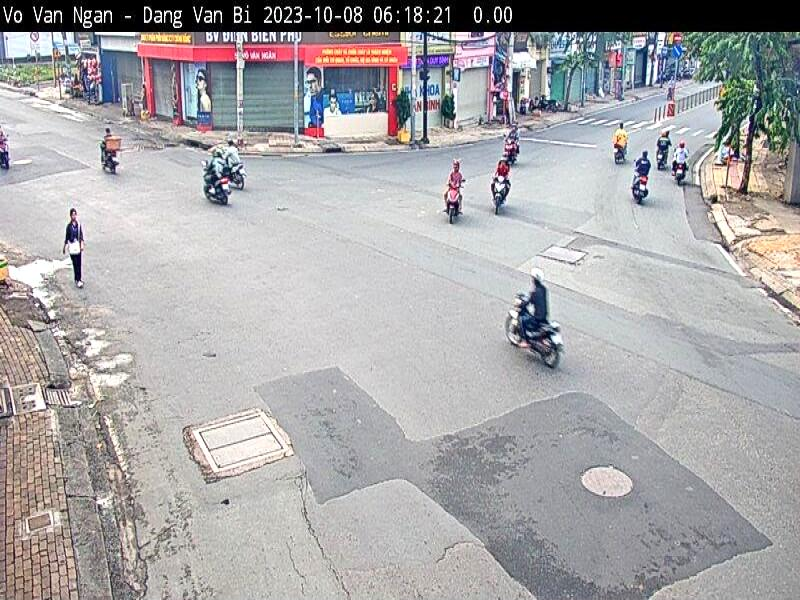motorcycle: (504, 293, 562, 371), (204, 168, 231, 205), (446, 179, 464, 224), (491, 176, 508, 215), (100, 148, 120, 174), (632, 174, 649, 204), (231, 163, 248, 191), (0, 135, 10, 169), (673, 161, 687, 184), (612, 144, 626, 164), (656, 151, 667, 170)
